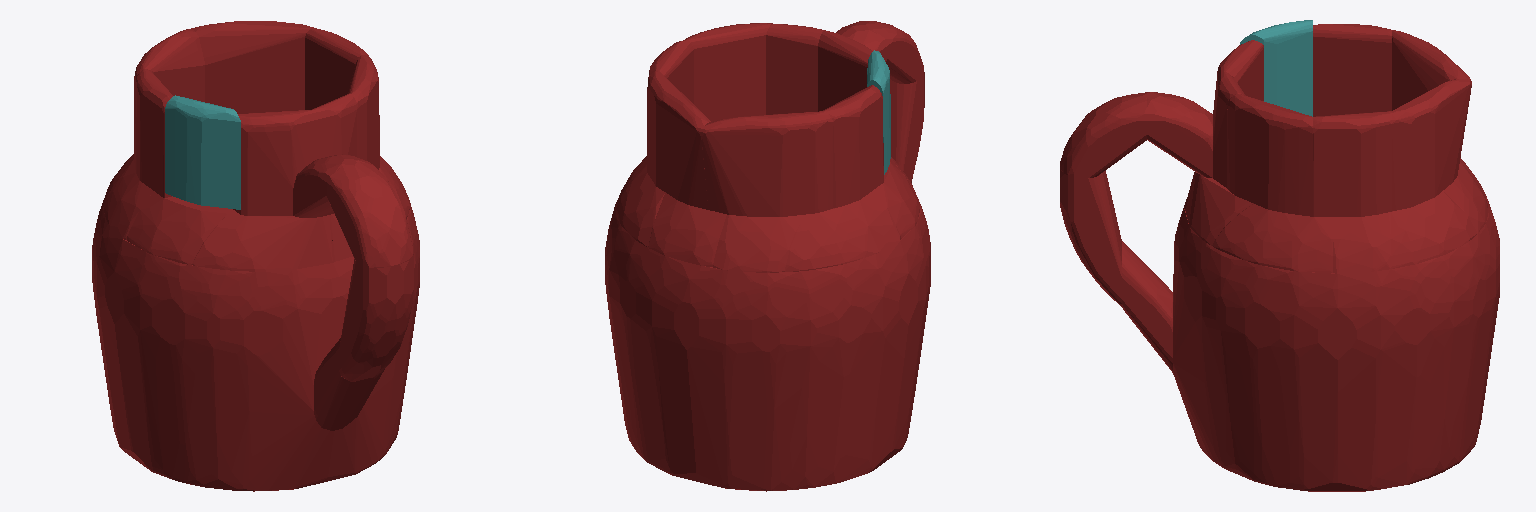
The robot description file, URDF, robot "root":
<robot name="root">
  <link name="bottle_body">
    <inertial>
      <origin xyz="0 0 0" rpy="0 0 0"/>
    </inertial>
    <mass value="1.00E-02"/>
    <visual>
      <origin xyz="0 0 0" rpy="0 0 0"/>
      <geometry>
        <mesh filename="core-bottle-77ad88568cb55237e01d7dc978602402-coacd_convex_piece_3.obj" scale="1.0000E-01 1.0000E-01 1.0000E-01"/>
      </geometry>
      <material name="">
        <color rgba="6.00E-01 2.00E-01 2.00E-01 1"/>
      </material>
    </visual>
    <collision>
      <origin xyz="0 0 0" rpy="0 0 0"/>
      <geometry>
        <mesh filename="core-bottle-77ad88568cb55237e01d7dc978602402-coacd_convex_piece_3.obj" scale="1.0000E-01 1.0000E-01 1.0000E-01"/>
      </geometry>
    </collision>
    <visual>
      <origin xyz="0 0 0" rpy="0 0 0"/>
      <geometry>
        <mesh filename="core-bottle-77ad88568cb55237e01d7dc978602402-coacd_convex_piece_11.obj" scale="1.0000E-01 1.0000E-01 1.0000E-01"/>
      </geometry>
      <material name="">
        <color rgba="6.00E-01 2.00E-01 2.00E-01 1"/>
      </material>
    </visual>
    <collision>
      <origin xyz="0 0 0" rpy="0 0 0"/>
      <geometry>
        <mesh filename="core-bottle-77ad88568cb55237e01d7dc978602402-coacd_convex_piece_11.obj" scale="1.0000E-01 1.0000E-01 1.0000E-01"/>
      </geometry>
    </collision>
    <visual>
      <origin xyz="0 0 0" rpy="0 0 0"/>
      <geometry>
        <mesh filename="core-bottle-77ad88568cb55237e01d7dc978602402-coacd_convex_piece_12.obj" scale="1.0000E-01 1.0000E-01 1.0000E-01"/>
      </geometry>
      <material name="">
        <color rgba="6.00E-01 2.00E-01 2.00E-01 1"/>
      </material>
    </visual>
    <collision>
      <origin xyz="0 0 0" rpy="0 0 0"/>
      <geometry>
        <mesh filename="core-bottle-77ad88568cb55237e01d7dc978602402-coacd_convex_piece_12.obj" scale="1.0000E-01 1.0000E-01 1.0000E-01"/>
      </geometry>
    </collision>
    <visual>
      <origin xyz="0 0 0" rpy="0 0 0"/>
      <geometry>
        <mesh filename="core-bottle-77ad88568cb55237e01d7dc978602402-coacd_convex_piece_8.obj" scale="1.0000E-01 1.0000E-01 1.0000E-01"/>
      </geometry>
      <material name="">
        <color rgba="6.00E-01 2.00E-01 2.00E-01 1"/>
      </material>
    </visual>
    <collision>
      <origin xyz="0 0 0" rpy="0 0 0"/>
      <geometry>
        <mesh filename="core-bottle-77ad88568cb55237e01d7dc978602402-coacd_convex_piece_8.obj" scale="1.0000E-01 1.0000E-01 1.0000E-01"/>
      </geometry>
    </collision>
    <visual>
      <origin xyz="0 0 0" rpy="0 0 0"/>
      <geometry>
        <mesh filename="core-bottle-77ad88568cb55237e01d7dc978602402-coacd_convex_piece_1.obj" scale="1.0000E-01 1.0000E-01 1.0000E-01"/>
      </geometry>
      <material name="">
        <color rgba="6.00E-01 2.00E-01 2.00E-01 1"/>
      </material>
    </visual>
    <collision>
      <origin xyz="0 0 0" rpy="0 0 0"/>
      <geometry>
        <mesh filename="core-bottle-77ad88568cb55237e01d7dc978602402-coacd_convex_piece_1.obj" scale="1.0000E-01 1.0000E-01 1.0000E-01"/>
      </geometry>
    </collision>
    <visual>
      <origin xyz="0 0 0" rpy="0 0 0"/>
      <geometry>
        <mesh filename="core-bottle-77ad88568cb55237e01d7dc978602402-coacd_convex_piece_18.obj" scale="1.0000E-01 1.0000E-01 1.0000E-01"/>
      </geometry>
      <material name="">
        <color rgba="6.00E-01 2.00E-01 2.00E-01 1"/>
      </material>
    </visual>
    <collision>
      <origin xyz="0 0 0" rpy="0 0 0"/>
      <geometry>
        <mesh filename="core-bottle-77ad88568cb55237e01d7dc978602402-coacd_convex_piece_18.obj" scale="1.0000E-01 1.0000E-01 1.0000E-01"/>
      </geometry>
    </collision>
    <visual>
      <origin xyz="0 0 0" rpy="0 0 0"/>
      <geometry>
        <mesh filename="core-bottle-77ad88568cb55237e01d7dc978602402-coacd_convex_piece_19.obj" scale="1.0000E-01 1.0000E-01 1.0000E-01"/>
      </geometry>
      <material name="">
        <color rgba="6.00E-01 2.00E-01 2.00E-01 1"/>
      </material>
    </visual>
    <collision>
      <origin xyz="0 0 0" rpy="0 0 0"/>
      <geometry>
        <mesh filename="core-bottle-77ad88568cb55237e01d7dc978602402-coacd_convex_piece_19.obj" scale="1.0000E-01 1.0000E-01 1.0000E-01"/>
      </geometry>
    </collision>
    <visual>
      <origin xyz="0 0 0" rpy="0 0 0"/>
      <geometry>
        <mesh filename="core-bottle-77ad88568cb55237e01d7dc978602402-coacd_convex_piece_6.obj" scale="1.0000E-01 1.0000E-01 1.0000E-01"/>
      </geometry>
      <material name="">
        <color rgba="6.00E-01 2.00E-01 2.00E-01 1"/>
      </material>
    </visual>
    <collision>
      <origin xyz="0 0 0" rpy="0 0 0"/>
      <geometry>
        <mesh filename="core-bottle-77ad88568cb55237e01d7dc978602402-coacd_convex_piece_6.obj" scale="1.0000E-01 1.0000E-01 1.0000E-01"/>
      </geometry>
    </collision>
    <visual>
      <origin xyz="0 0 0" rpy="0 0 0"/>
      <geometry>
        <mesh filename="core-bottle-77ad88568cb55237e01d7dc978602402-coacd_convex_piece_14.obj" scale="1.0000E-01 1.0000E-01 1.0000E-01"/>
      </geometry>
      <material name="">
        <color rgba="6.00E-01 2.00E-01 2.00E-01 1"/>
      </material>
    </visual>
    <collision>
      <origin xyz="0 0 0" rpy="0 0 0"/>
      <geometry>
        <mesh filename="core-bottle-77ad88568cb55237e01d7dc978602402-coacd_convex_piece_14.obj" scale="1.0000E-01 1.0000E-01 1.0000E-01"/>
      </geometry>
    </collision>
    <visual>
      <origin xyz="0 0 0" rpy="0 0 0"/>
      <geometry>
        <mesh filename="core-bottle-77ad88568cb55237e01d7dc978602402-coacd_convex_piece_20.obj" scale="1.0000E-01 1.0000E-01 1.0000E-01"/>
      </geometry>
      <material name="">
        <color rgba="6.00E-01 2.00E-01 2.00E-01 1"/>
      </material>
    </visual>
    <collision>
      <origin xyz="0 0 0" rpy="0 0 0"/>
      <geometry>
        <mesh filename="core-bottle-77ad88568cb55237e01d7dc978602402-coacd_convex_piece_20.obj" scale="1.0000E-01 1.0000E-01 1.0000E-01"/>
      </geometry>
    </collision>
    <visual>
      <origin xyz="0 0 0" rpy="0 0 0"/>
      <geometry>
        <mesh filename="core-bottle-77ad88568cb55237e01d7dc978602402-coacd_convex_piece_10.obj" scale="1.0000E-01 1.0000E-01 1.0000E-01"/>
      </geometry>
      <material name="">
        <color rgba="6.00E-01 2.00E-01 2.00E-01 1"/>
      </material>
    </visual>
    <collision>
      <origin xyz="0 0 0" rpy="0 0 0"/>
      <geometry>
        <mesh filename="core-bottle-77ad88568cb55237e01d7dc978602402-coacd_convex_piece_10.obj" scale="1.0000E-01 1.0000E-01 1.0000E-01"/>
      </geometry>
    </collision>
    <visual>
      <origin xyz="0 0 0" rpy="0 0 0"/>
      <geometry>
        <mesh filename="core-bottle-77ad88568cb55237e01d7dc978602402-coacd_convex_piece_16.obj" scale="1.0000E-01 1.0000E-01 1.0000E-01"/>
      </geometry>
      <material name="">
        <color rgba="6.00E-01 2.00E-01 2.00E-01 1"/>
      </material>
    </visual>
    <collision>
      <origin xyz="0 0 0" rpy="0 0 0"/>
      <geometry>
        <mesh filename="core-bottle-77ad88568cb55237e01d7dc978602402-coacd_convex_piece_16.obj" scale="1.0000E-01 1.0000E-01 1.0000E-01"/>
      </geometry>
    </collision>
    <visual>
      <origin xyz="0 0 0" rpy="0 0 0"/>
      <geometry>
        <mesh filename="core-bottle-77ad88568cb55237e01d7dc978602402-coacd_convex_piece_0.obj" scale="1.0000E-01 1.0000E-01 1.0000E-01"/>
      </geometry>
      <material name="">
        <color rgba="6.00E-01 2.00E-01 2.00E-01 1"/>
      </material>
    </visual>
    <collision>
      <origin xyz="0 0 0" rpy="0 0 0"/>
      <geometry>
        <mesh filename="core-bottle-77ad88568cb55237e01d7dc978602402-coacd_convex_piece_0.obj" scale="1.0000E-01 1.0000E-01 1.0000E-01"/>
      </geometry>
    </collision>
    <visual>
      <origin xyz="0 0 0" rpy="0 0 0"/>
      <geometry>
        <mesh filename="core-bottle-77ad88568cb55237e01d7dc978602402-coacd_convex_piece_15.obj" scale="1.0000E-01 1.0000E-01 1.0000E-01"/>
      </geometry>
      <material name="">
        <color rgba="6.00E-01 2.00E-01 2.00E-01 1"/>
      </material>
    </visual>
    <collision>
      <origin xyz="0 0 0" rpy="0 0 0"/>
      <geometry>
        <mesh filename="core-bottle-77ad88568cb55237e01d7dc978602402-coacd_convex_piece_15.obj" scale="1.0000E-01 1.0000E-01 1.0000E-01"/>
      </geometry>
    </collision>
    <visual>
      <origin xyz="0 0 0" rpy="0 0 0"/>
      <geometry>
        <mesh filename="core-bottle-77ad88568cb55237e01d7dc978602402-coacd_convex_piece_4.obj" scale="1.0000E-01 1.0000E-01 1.0000E-01"/>
      </geometry>
      <material name="">
        <color rgba="6.00E-01 2.00E-01 2.00E-01 1"/>
      </material>
    </visual>
    <collision>
      <origin xyz="0 0 0" rpy="0 0 0"/>
      <geometry>
        <mesh filename="core-bottle-77ad88568cb55237e01d7dc978602402-coacd_convex_piece_4.obj" scale="1.0000E-01 1.0000E-01 1.0000E-01"/>
      </geometry>
    </collision>
    <visual>
      <origin xyz="0 0 0" rpy="0 0 0"/>
      <geometry>
        <mesh filename="core-bottle-77ad88568cb55237e01d7dc978602402-coacd_convex_piece_7.obj" scale="1.0000E-01 1.0000E-01 1.0000E-01"/>
      </geometry>
      <material name="">
        <color rgba="6.00E-01 2.00E-01 2.00E-01 1"/>
      </material>
    </visual>
    <collision>
      <origin xyz="0 0 0" rpy="0 0 0"/>
      <geometry>
        <mesh filename="core-bottle-77ad88568cb55237e01d7dc978602402-coacd_convex_piece_7.obj" scale="1.0000E-01 1.0000E-01 1.0000E-01"/>
      </geometry>
    </collision>
    <visual>
      <origin xyz="0 0 0" rpy="0 0 0"/>
      <geometry>
        <mesh filename="core-bottle-77ad88568cb55237e01d7dc978602402-coacd_convex_piece_9.obj" scale="1.0000E-01 1.0000E-01 1.0000E-01"/>
      </geometry>
      <material name="">
        <color rgba="6.00E-01 2.00E-01 2.00E-01 1"/>
      </material>
    </visual>
    <collision>
      <origin xyz="0 0 0" rpy="0 0 0"/>
      <geometry>
        <mesh filename="core-bottle-77ad88568cb55237e01d7dc978602402-coacd_convex_piece_9.obj" scale="1.0000E-01 1.0000E-01 1.0000E-01"/>
      </geometry>
    </collision>
    <visual>
      <origin xyz="0 0 0" rpy="0 0 0"/>
      <geometry>
        <mesh filename="core-bottle-77ad88568cb55237e01d7dc978602402-coacd_convex_piece_5.obj" scale="1.0000E-01 1.0000E-01 1.0000E-01"/>
      </geometry>
      <material name="">
        <color rgba="6.00E-01 2.00E-01 2.00E-01 1"/>
      </material>
    </visual>
    <collision>
      <origin xyz="0 0 0" rpy="0 0 0"/>
      <geometry>
        <mesh filename="core-bottle-77ad88568cb55237e01d7dc978602402-coacd_convex_piece_5.obj" scale="1.0000E-01 1.0000E-01 1.0000E-01"/>
      </geometry>
    </collision>
    <visual>
      <origin xyz="0 0 0" rpy="0 0 0"/>
      <geometry>
        <mesh filename="core-bottle-77ad88568cb55237e01d7dc978602402-coacd_convex_piece_21.obj" scale="1.0000E-01 1.0000E-01 1.0000E-01"/>
      </geometry>
      <material name="">
        <color rgba="6.00E-01 2.00E-01 2.00E-01 1"/>
      </material>
    </visual>
    <collision>
      <origin xyz="0 0 0" rpy="0 0 0"/>
      <geometry>
        <mesh filename="core-bottle-77ad88568cb55237e01d7dc978602402-coacd_convex_piece_21.obj" scale="1.0000E-01 1.0000E-01 1.0000E-01"/>
      </geometry>
    </collision>
    <visual>
      <origin xyz="0 0 0" rpy="0 0 0"/>
      <geometry>
        <mesh filename="core-bottle-77ad88568cb55237e01d7dc978602402-coacd_convex_piece_2.obj" scale="1.0000E-01 1.0000E-01 1.0000E-01"/>
      </geometry>
      <material name="">
        <color rgba="6.00E-01 2.00E-01 2.00E-01 1"/>
      </material>
    </visual>
    <collision>
      <origin xyz="0 0 0" rpy="0 0 0"/>
      <geometry>
        <mesh filename="core-bottle-77ad88568cb55237e01d7dc978602402-coacd_convex_piece_2.obj" scale="1.0000E-01 1.0000E-01 1.0000E-01"/>
      </geometry>
    </collision>
    <visual>
      <origin xyz="0 0 0" rpy="0 0 0"/>
      <geometry>
        <mesh filename="core-bottle-77ad88568cb55237e01d7dc978602402-coacd_convex_piece_17.obj" scale="1.0000E-01 1.0000E-01 1.0000E-01"/>
      </geometry>
      <material name="">
        <color rgba="6.00E-01 2.00E-01 2.00E-01 1"/>
      </material>
    </visual>
    <collision>
      <origin xyz="0 0 0" rpy="0 0 0"/>
      <geometry>
        <mesh filename="core-bottle-77ad88568cb55237e01d7dc978602402-coacd_convex_piece_17.obj" scale="1.0000E-01 1.0000E-01 1.0000E-01"/>
      </geometry>
    </collision>
  </link>
  <link name="bottle_cap">
    <origin xyz="0 0 0.002" rpy="0 0 0"/>
    <mass value="1.00E-02"/>
    <visual>
      <origin xyz="0 0 0.002" rpy="0 0 0"/>
      <geometry>
        <mesh filename="core-bottle-77ad88568cb55237e01d7dc978602402-coacd_convex_piece_13.obj" scale="1.0000E-01 1.0000E-01 1.0000E-01"/>
      </geometry>
      <material name="">
        <color rgba="3.00E-01 6.00E-01 6.00E-01 1"/>
      </material>
    </visual>
    <collision>
      <origin xyz="0 0 0.002" rpy="0 0 0"/>
      <geometry>
        <mesh filename="core-bottle-77ad88568cb55237e01d7dc978602402-coacd_convex_piece_13.obj" scale="1.0000E-01 1.0000E-01 1.0000E-01"/>
      </geometry>
    </collision>
  </link>
  <joint name="bottle_cap_joint" type="revolute">
    <origin xyz="0 0 0" rpy="0 0 0"/>
    <parent link="bottle_body"/>
    <child link="bottle_cap"/>
    <axis xyz="0 0 1"/>
    <limit lower="0.00" upper="6.28"/>
    <dynamics damping="0.05"/>
  </joint>
</robot>

--- Render facts (derived) ---
3 views of the same robot in one strip: view 1: azimuth 30°, elevation 25°; view 2: azimuth 150°, elevation 25°; view 3: azimuth 270°, elevation 25° (orthographic).
Model root with 2 links and 1 joints (1 revolute), rooted at bottle_body, posed every joint at zero.
Links seen in each view (by area): view 1: bottle_body, bottle_cap; view 2: bottle_body, bottle_cap; view 3: bottle_body, bottle_cap.
Link boxes in pixels (<box>): bottle_body: <box>92,21,419,491</box>; bottle_cap: <box>165,95,240,209</box>; bottle_body: <box>605,21,930,491</box>; bottle_cap: <box>867,50,890,174</box>; bottle_body: <box>1060,24,1499,491</box>; bottle_cap: <box>1240,20,1312,116</box>.
Size in the robot's own frame: 0.1141 by 0.1544 by 0.143 metres.
Meshes: 22 distinct files referenced, 22 mesh visuals loaded (22 OBJ).